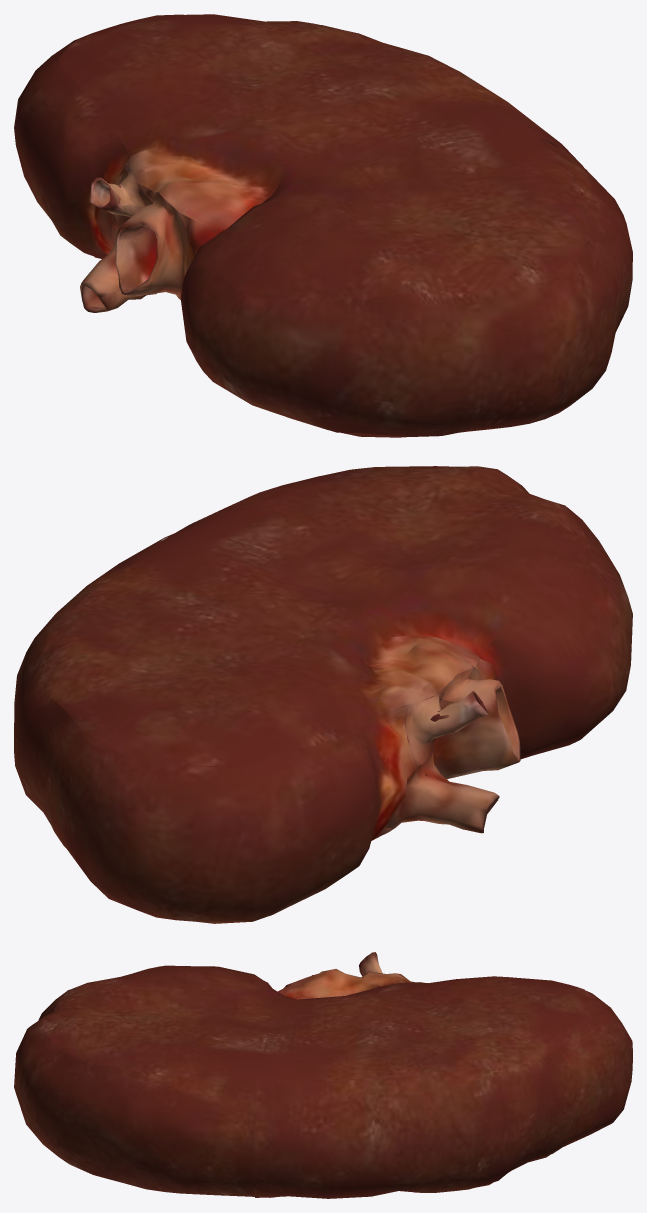
The model's file is kidney.glb.
3 renders of one model, top to bottom at view 1: azimuth 30°, elevation 25°; view 2: azimuth 150°, elevation 25°; view 3: azimuth 270°, elevation 25°, orthographic. The views are drawn at different scales.
Visible parts, largest first — view 1: Kidney; view 2: Kidney; view 3: Kidney.
Boxes of the visible parts, left/top/right/bottom form: Kidney: left=14, top=14, right=632, bottom=437; Kidney: left=14, top=466, right=632, bottom=923; Kidney: left=14, top=952, right=632, bottom=1198.
Size of the model in its own units: 0.0691 by 0.0264 by 0.1099.
Materials: 1 (1 with a texture image).
